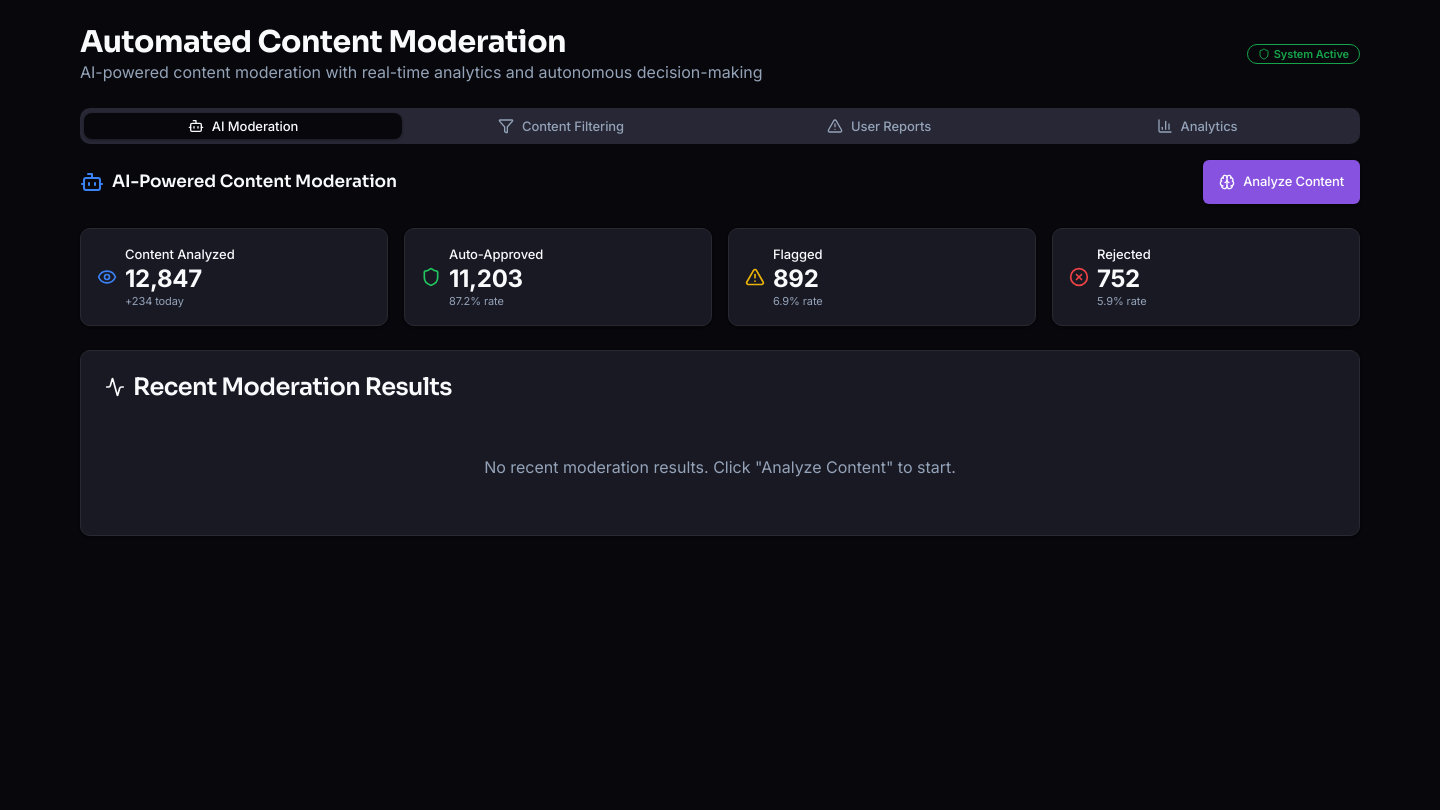
it: AutomatedContentModerationDashboard › US-168: Advanced Automated Content Filtering › should show self-optimization status
This screenshot has width=1440, height=810.
Click the tab "Content Filtering" at {"x": 561, "y": 126}, box [402,113,720,139]
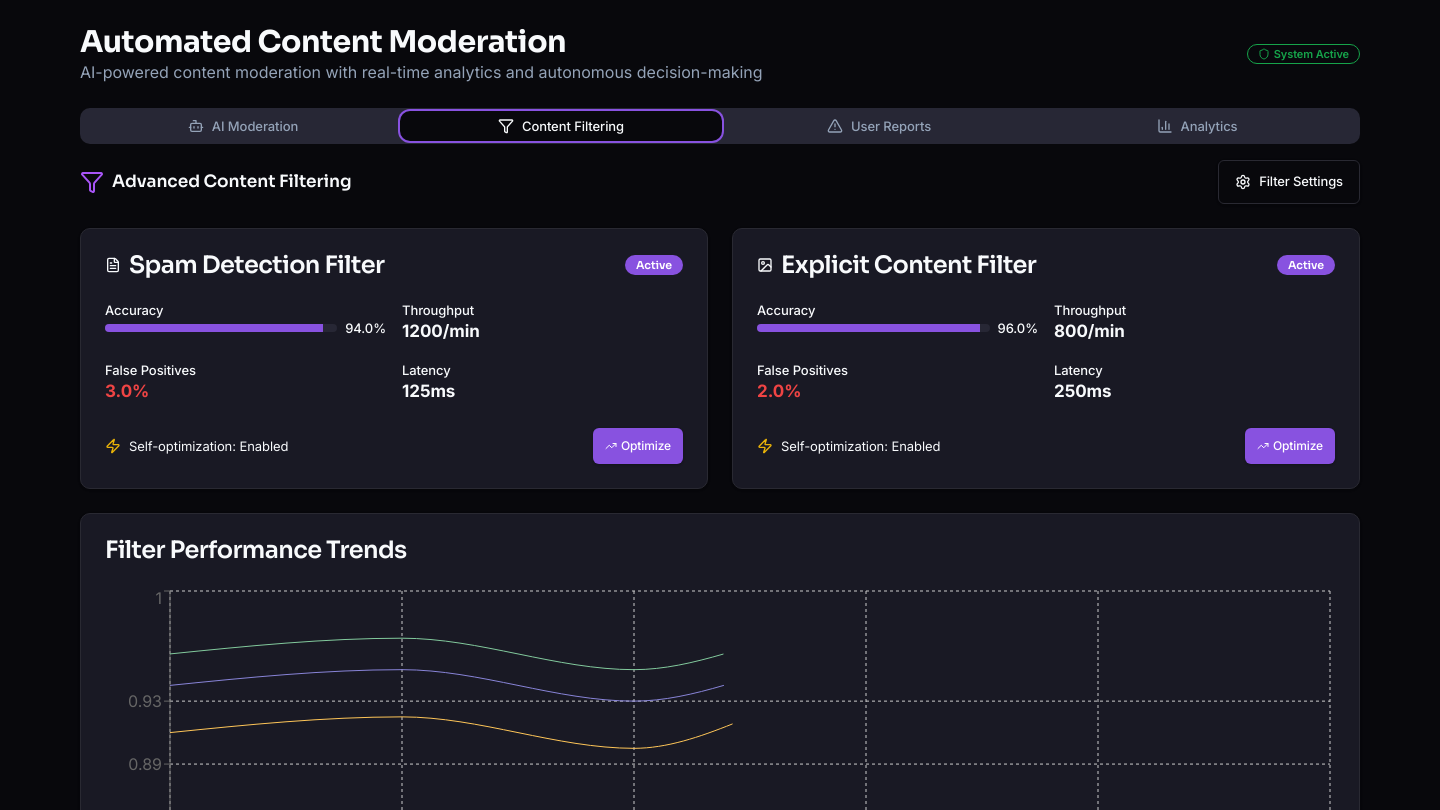
Expected: the heading "Advanced Content Filtering" is shown, [112,169,352,195]
